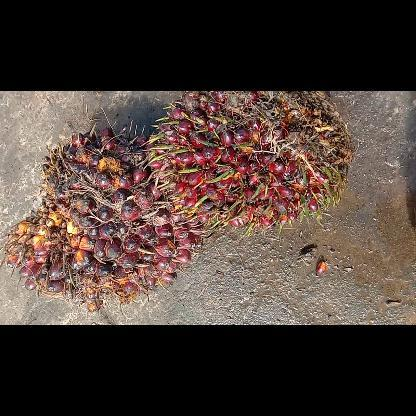Kurang masak: (145, 91, 351, 235)
TBS masak: (3, 122, 206, 310)
